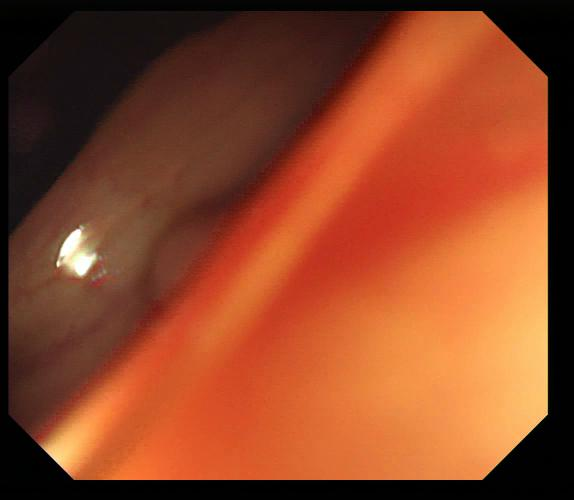polyp: (151, 194, 246, 308)
